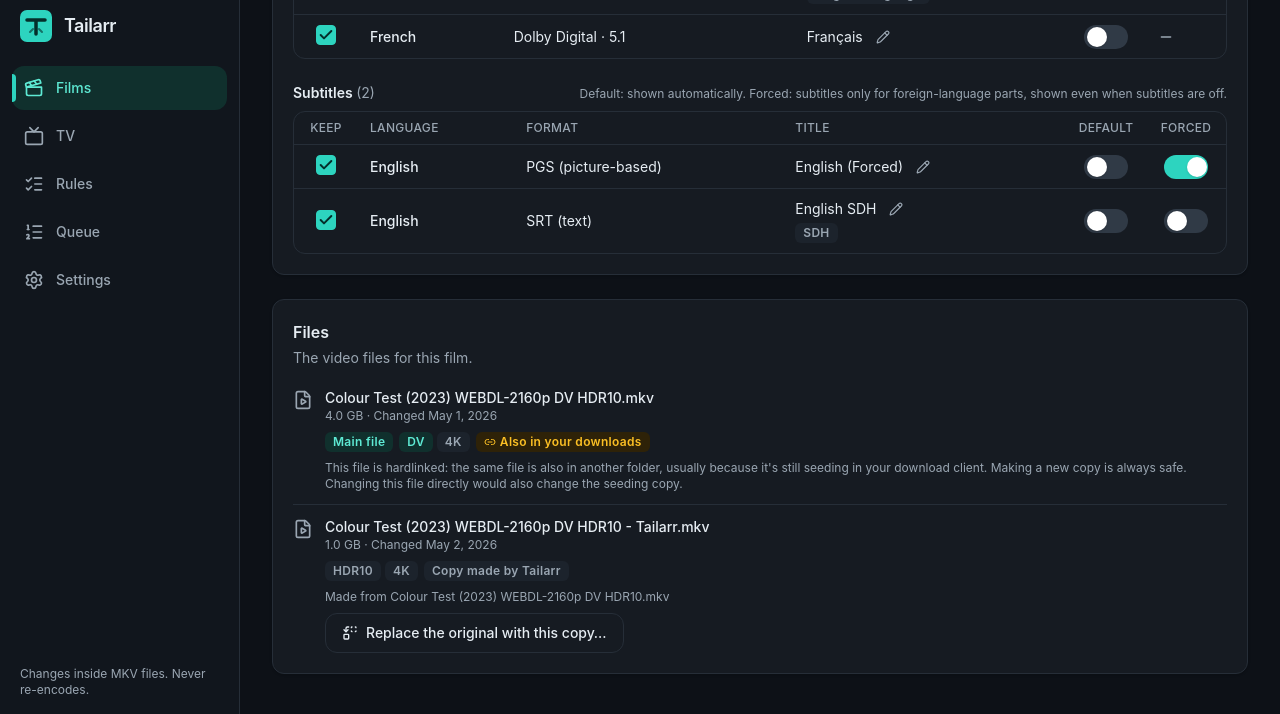
Test: replacing the original › needs a clear 'I understand', then follows the job
(page scrolled)
Click the button "Replace the original with this copy…". click: (474, 633)
box: [325,613,624,653]
(page scrolled)
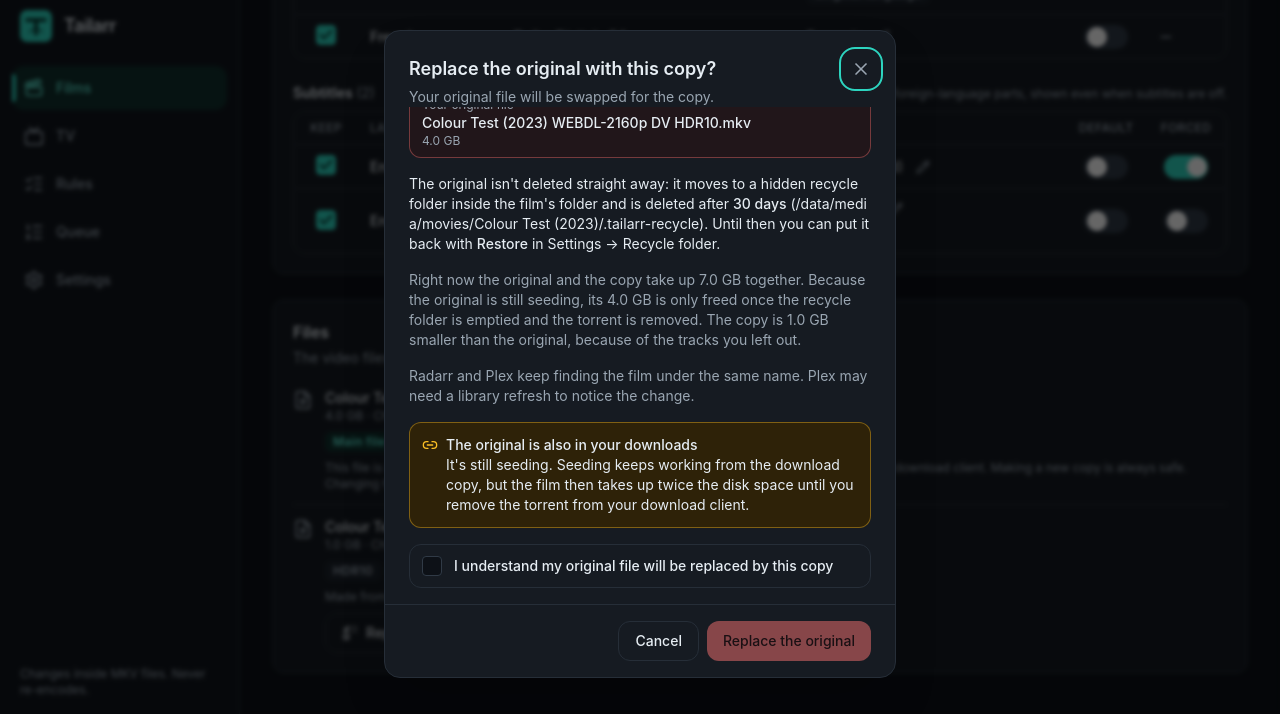
Expected: the dialog "Replace the original with this copy?" shows "deleted after 30 days", [384,30,896,678]
Expected: the dialog "Replace the original with this copy?" shows ".tailarr-recycle", [409,195,867,232]
Expected: the button "Replace the original" is disabled, [707,621,871,661]
Click the checkbox named "I understand". click: (432, 566)
box: [422,556,442,576]
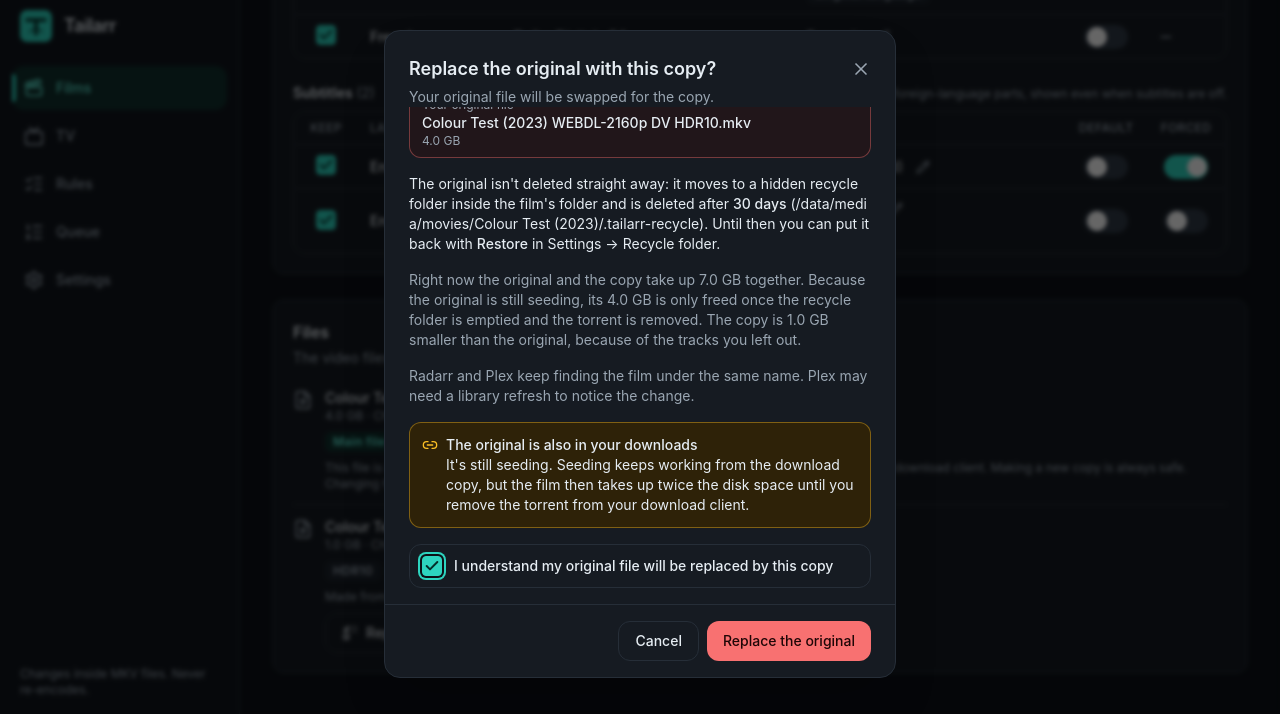
Click the button "Replace the original". click: (789, 641)
box: [707,621,871,661]
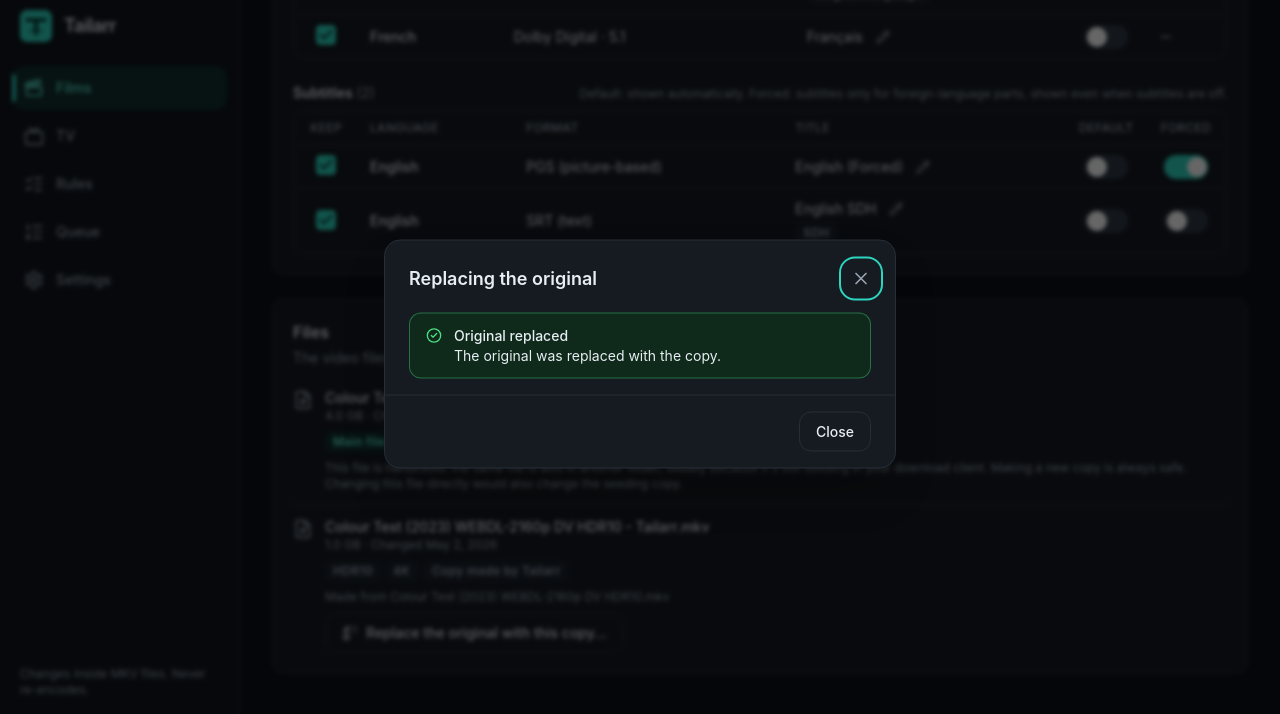
Expected: the text "Original replaced" is shown, [454,326,568,344]
Click the button "Close". click: (835, 432)
box: [799,412,871,452]
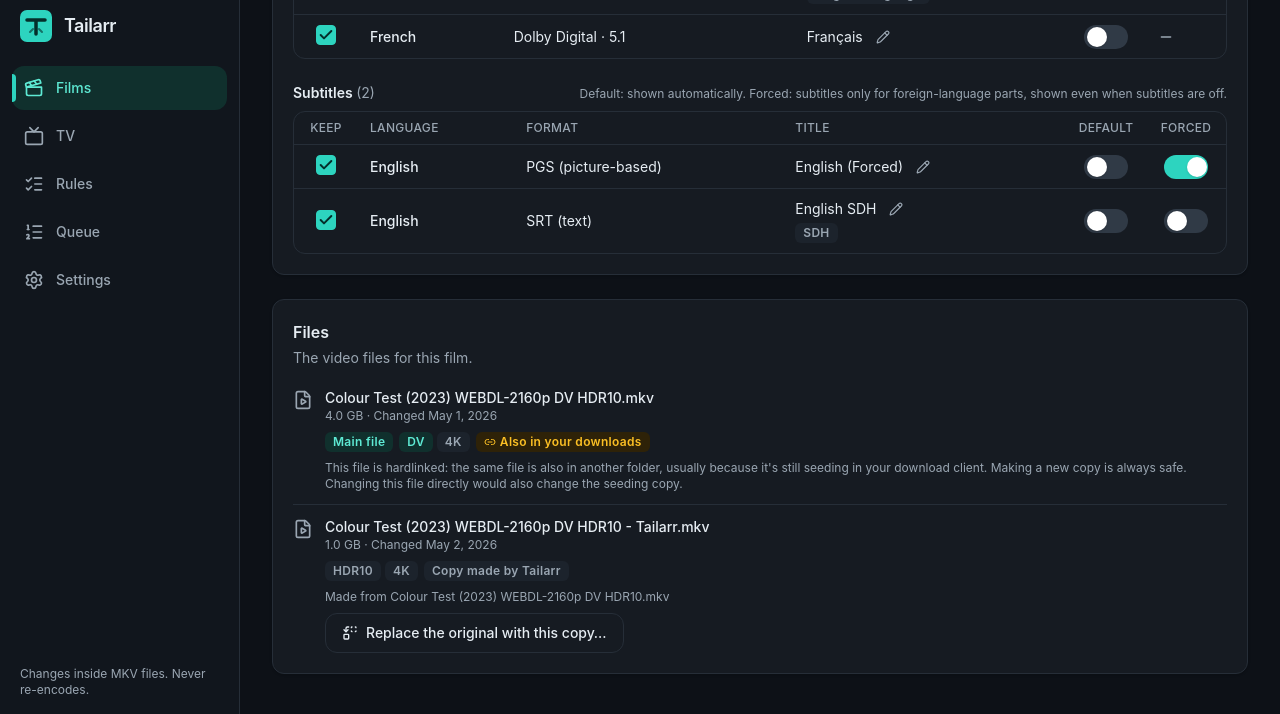
Expected: the dialog is gone
